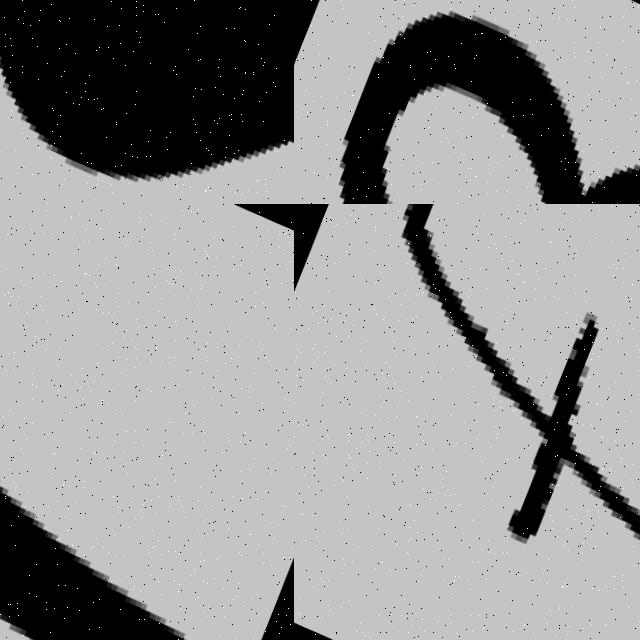8: (294, 0, 640, 204)
F: (396, 204, 640, 547)
R: (0, 204, 294, 640)
S: (0, 0, 294, 204)
